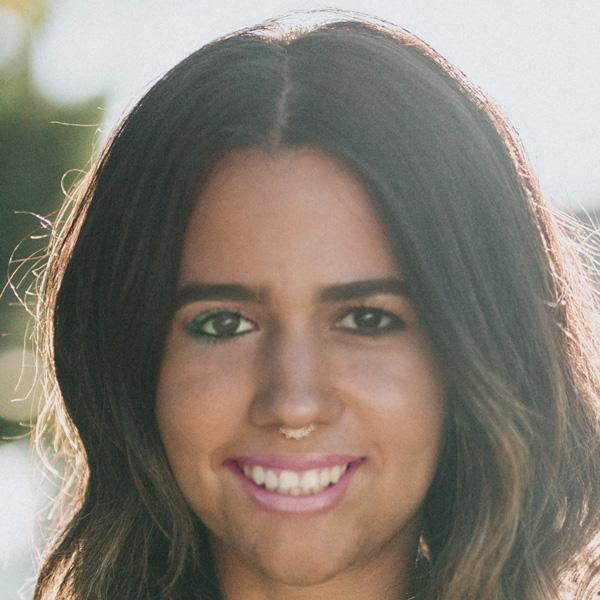Eyes: (324, 294, 409, 341), (182, 302, 265, 346)
